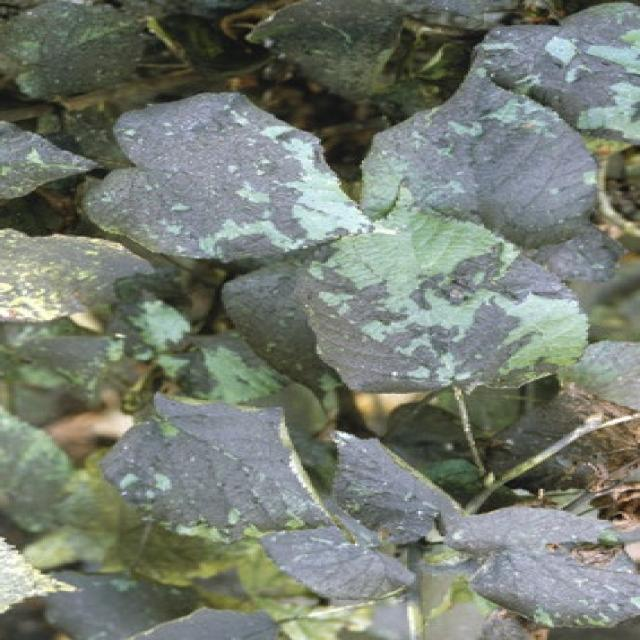Sooty Mold: (88, 69, 640, 602)
